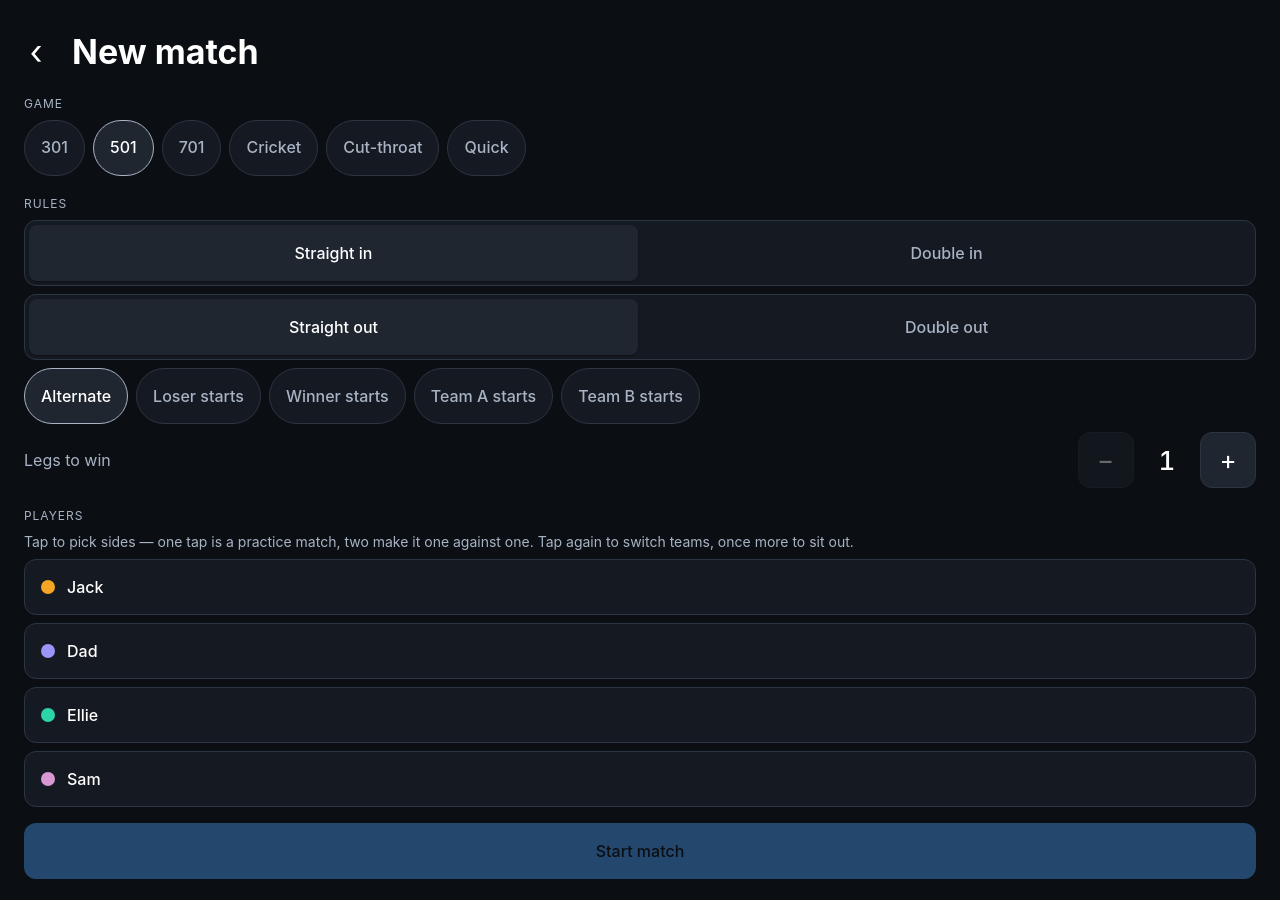
the start button › cannot be pressed twice while the first request is in flight
Click the button with aria-label "Jack,".
click(85, 587)  # box [24,560,1256,616]
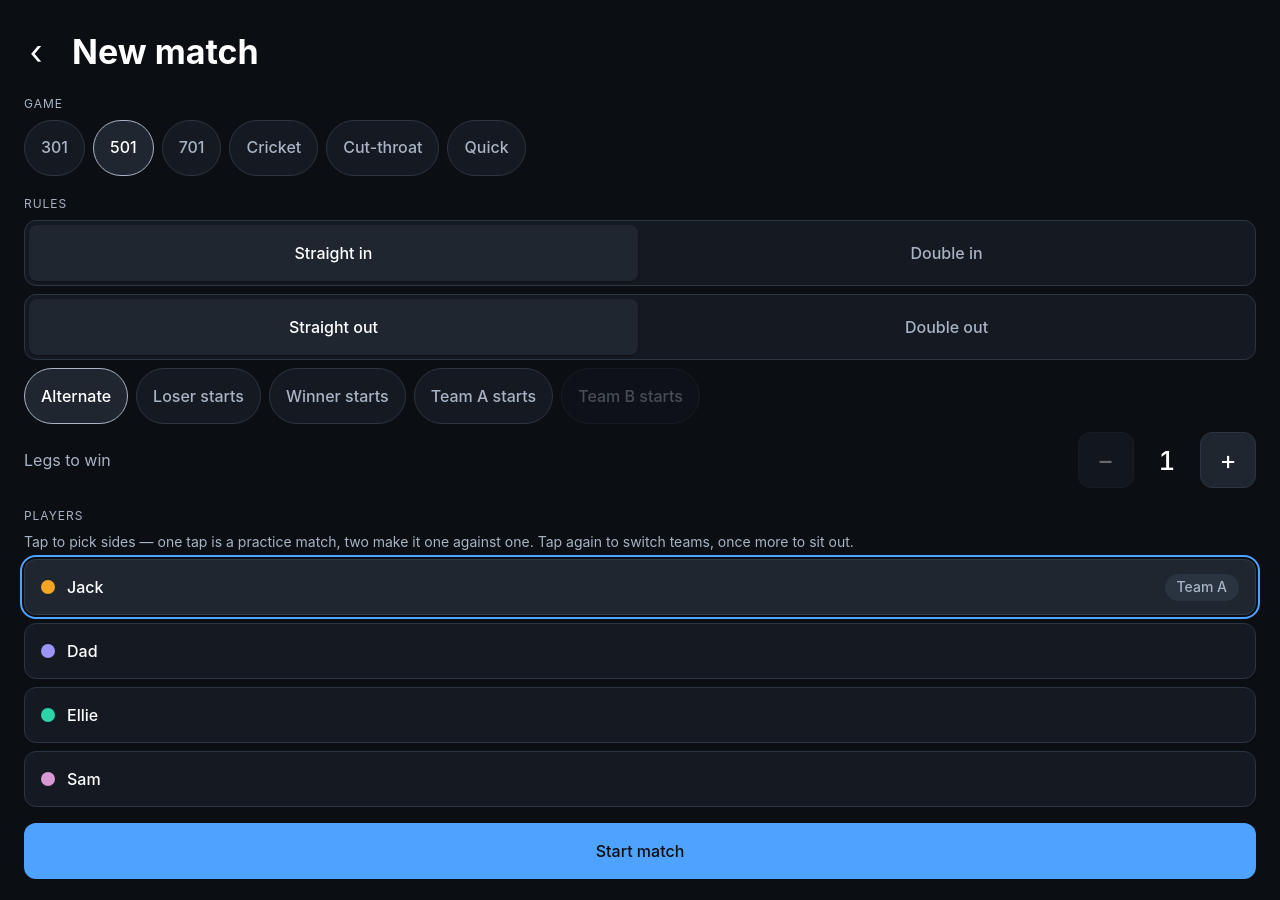
Click the button with aria-label "Dad,".
click(82, 651)  # box [24,624,1256,680]
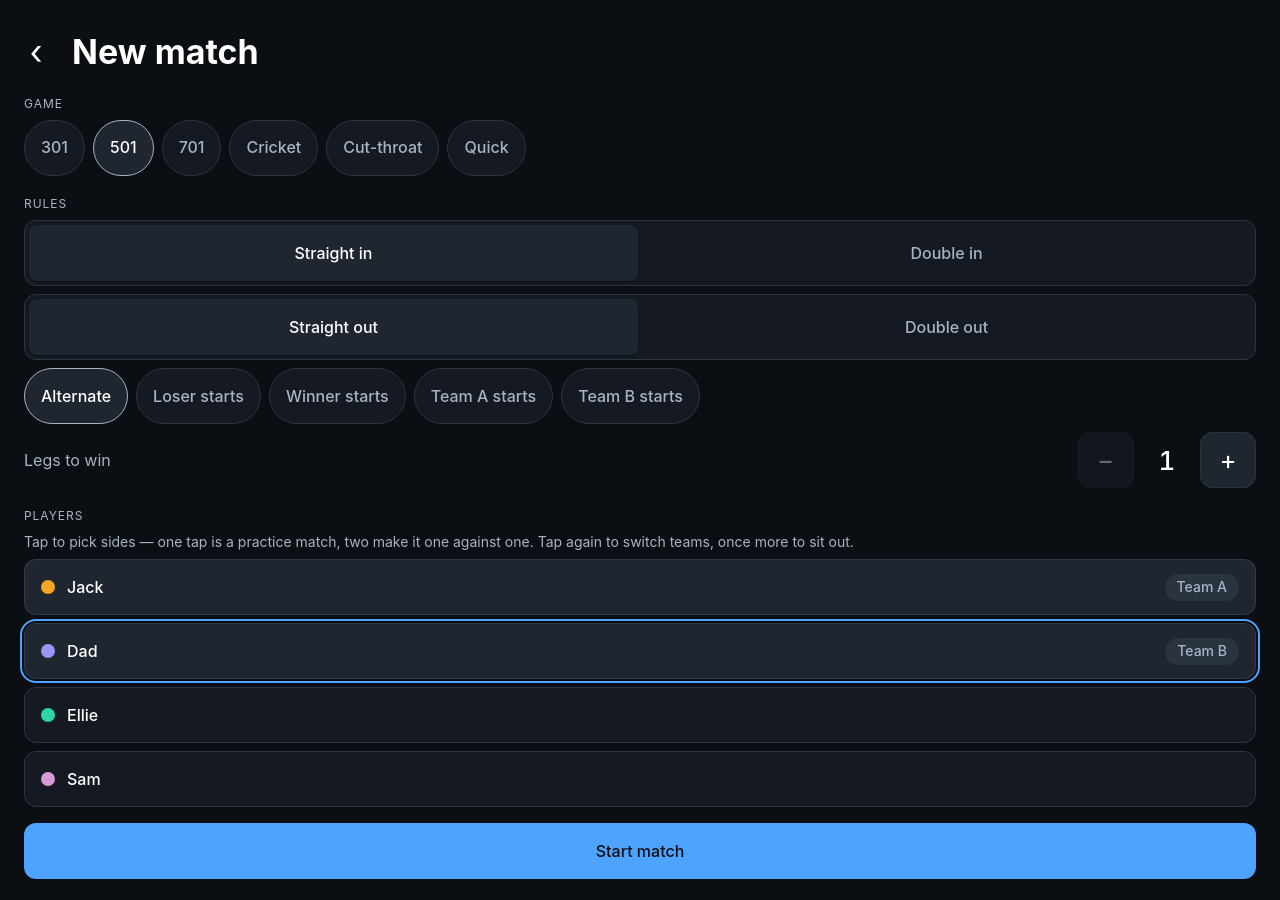
Click the button "Start match".
click(640, 852)  # box [24,824,1256,880]
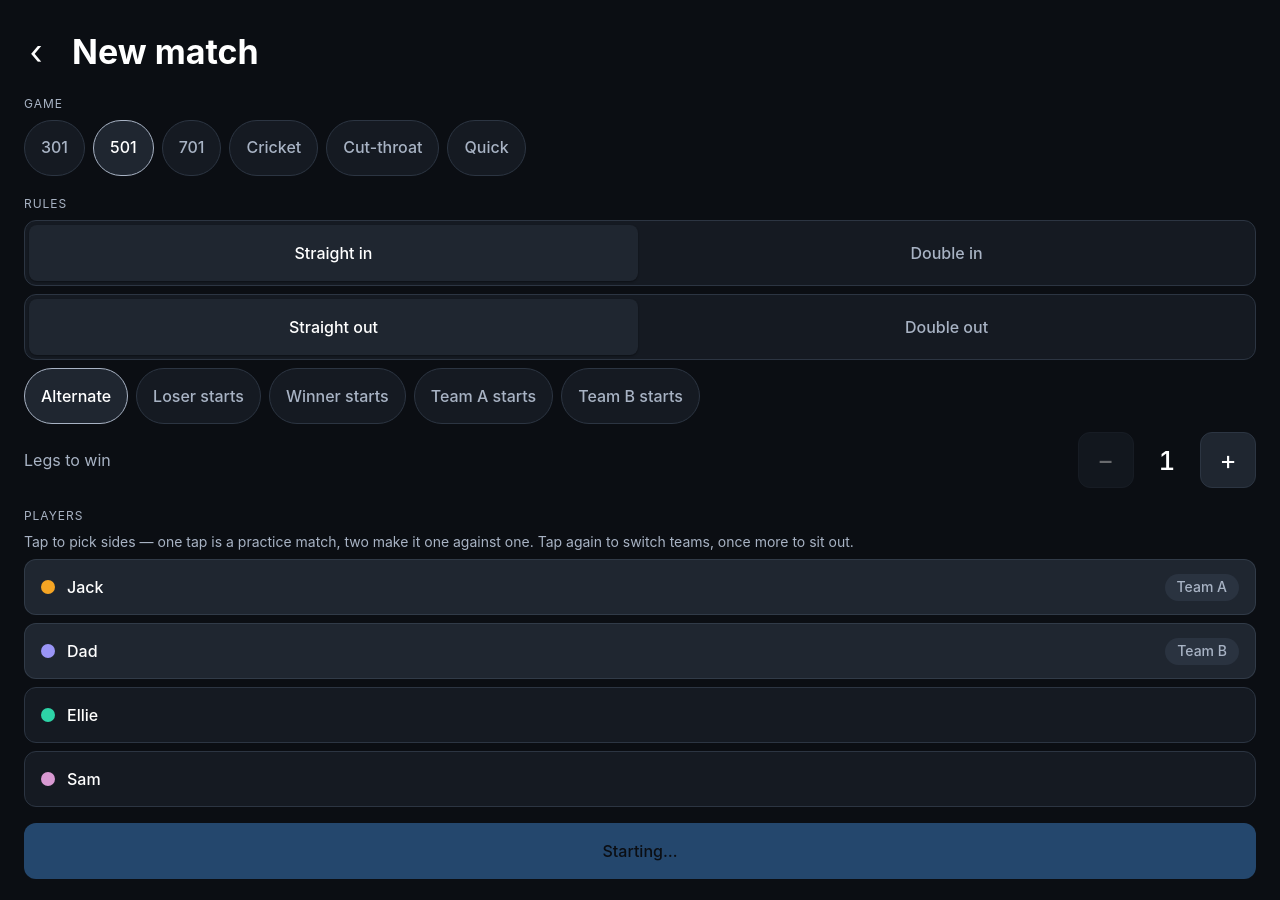
expect the button "Starting…" is disabled: met
Click the button "Starting…".
click(640, 852)  # box [24,824,1256,880]
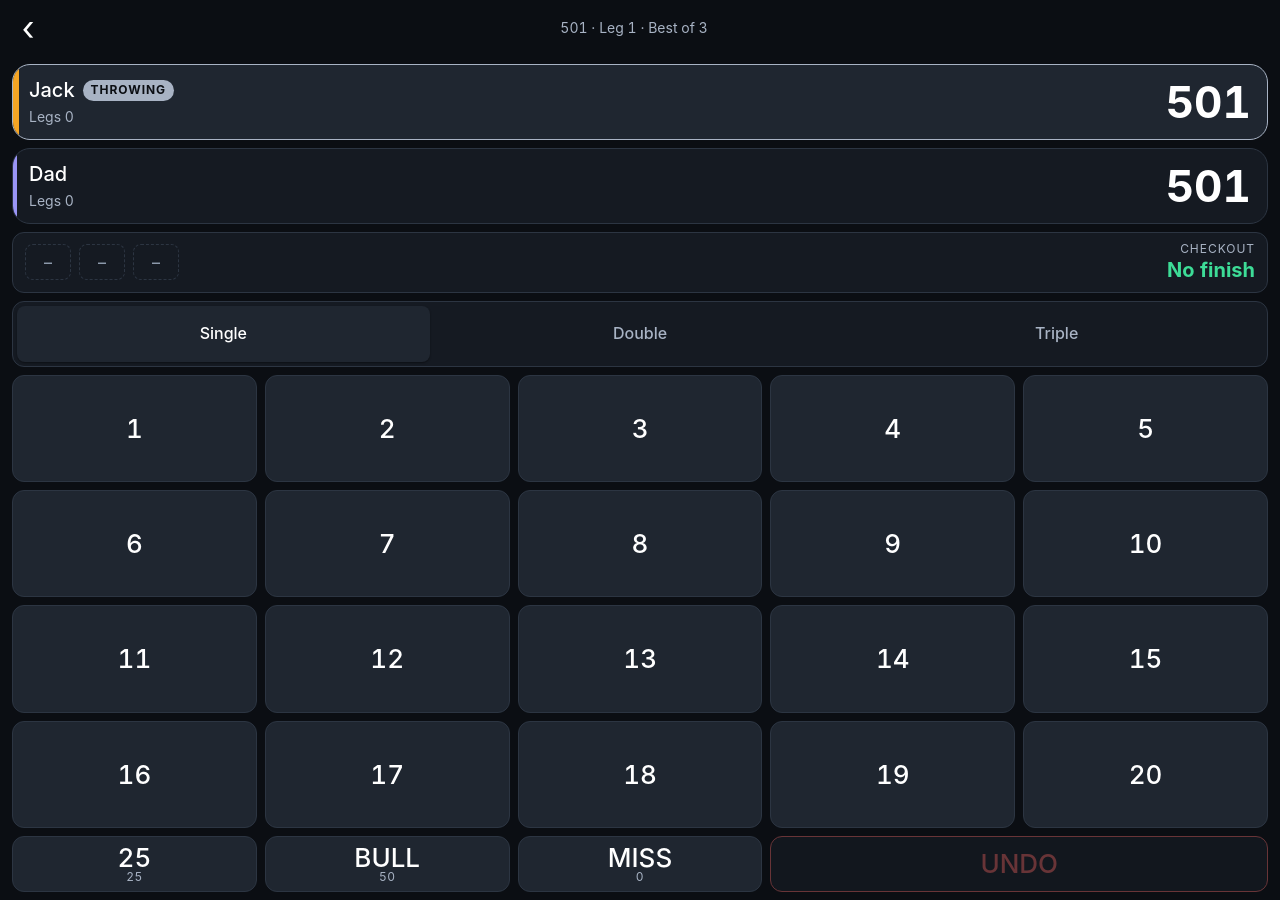
expect the element named "This visit" is shown: met, box [25,244,179,280]
